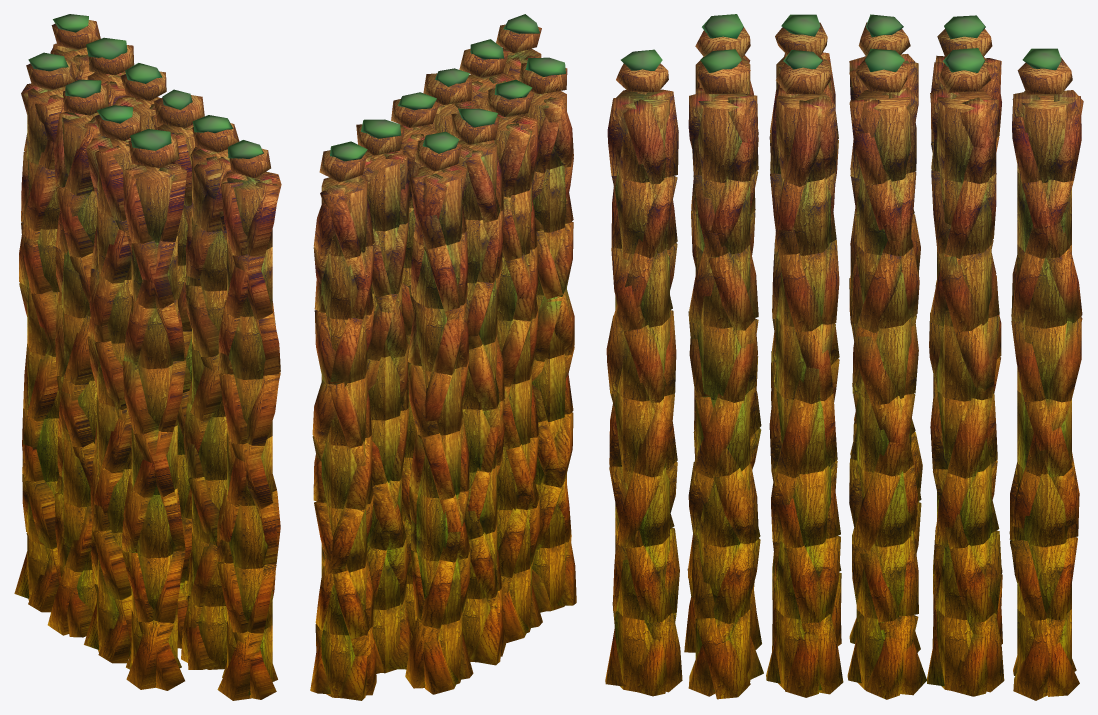
The model's file is env_obstacle_roots.glb.
The picture shows the model from 3 angles, left to right: view 1: azimuth 30°, elevation 25°; view 2: azimuth 150°, elevation 25°; view 3: azimuth 270°, elevation 25°; orthographic projection. The views are drawn at different scales.
Parts seen in each view (by area): view 1: roots_x0_z5_y7, roots_x1_z6_y7, roots_x1_z6_y2, roots_x0_z5_y4, roots_x0_z5_y2, roots_x1_z6_y5, roots_x1_z6_y4, roots_x0_z5_y5, roots_x0_z5_y1, roots_x0_z5_y0, roots_x1_z6_y0, roots_x1_z6_y1 (+57 smaller); view 2: roots_x1_z1_y7, roots_x0_z2_y7, roots_x1_z1_y0, roots_x0_z2_y0, roots_x1_z1_y3, roots_x0_z2_y2, roots_x1_z1_y6, roots_x0_z2_y5, roots_x0_z2_y6, roots_x0_z2_y3, roots_x0_z2_y1, roots_x1_z1_y1 (+53 smaller); view 3: roots_x1_z6_y7, roots_x1_z5_y7, roots_x1_z1_y7, roots_x1_z3_y7, roots_x1_z2_y7, roots_x1_z4_y7, roots_x1_z2_y0, roots_x1_z6_y0, roots_x1_z3_y0, roots_x1_z6_y4, roots_x1_z3_y2, roots_x1_z4_y5 (+51 smaller).
Boxes of the visible parts, bbox=[...] form: roots_x0_z5_y7: bbox=[123, 163, 186, 243]; roots_x1_z6_y7: bbox=[221, 171, 281, 256]; roots_x1_z6_y2: bbox=[217, 489, 280, 569]; roots_x0_z5_y4: bbox=[122, 360, 186, 433]; roots_x0_z5_y2: bbox=[121, 477, 185, 558]; roots_x1_z6_y5: bbox=[218, 300, 280, 379]; roots_x1_z6_y4: bbox=[219, 372, 280, 445]; roots_x0_z5_y5: bbox=[123, 294, 185, 369]; roots_x0_z5_y1: bbox=[122, 550, 185, 622]; roots_x0_z5_y0: bbox=[126, 609, 184, 690]; roots_x1_z6_y0: bbox=[217, 621, 277, 700]; roots_x1_z6_y1: bbox=[217, 562, 276, 633]; roots_x1_z1_y7: bbox=[313, 175, 374, 259]; roots_x0_z2_y7: bbox=[409, 164, 466, 249]; roots_x1_z1_y0: bbox=[310, 624, 376, 700]; roots_x0_z2_y0: bbox=[405, 610, 473, 694]; roots_x1_z1_y3: bbox=[312, 435, 373, 509]; roots_x0_z2_y2: bbox=[409, 486, 470, 562]; roots_x1_z1_y6: bbox=[313, 245, 374, 319]; roots_x0_z2_y5: bbox=[407, 296, 469, 375]; roots_x0_z2_y6: bbox=[411, 231, 468, 311]; roots_x0_z2_y3: bbox=[409, 417, 469, 500]; roots_x0_z2_y1: bbox=[411, 550, 470, 628]; roots_x1_z1_y1: bbox=[315, 557, 373, 638]; roots_x1_z6_y7: bbox=[607, 89, 678, 183]; roots_x1_z5_y7: bbox=[688, 87, 758, 182]; roots_x1_z1_y7: bbox=[1012, 90, 1083, 183]; roots_x1_z3_y7: bbox=[849, 86, 918, 185]; roots_x1_z2_y7: bbox=[930, 88, 998, 183]; roots_x1_z4_y7: bbox=[770, 88, 837, 186]; roots_x1_z2_y0: bbox=[927, 601, 1004, 696]; roots_x1_z6_y0: bbox=[605, 602, 682, 696]; roots_x1_z3_y0: bbox=[847, 609, 926, 699]; roots_x1_z6_y4: bbox=[606, 310, 676, 402]; roots_x1_z3_y2: bbox=[849, 457, 917, 550]; roots_x1_z4_y5: bbox=[772, 240, 839, 332].
Size of the model in its own units: 1.98 by 8.69 by 5.95.
Materials: 2 (2 with a texture image).
